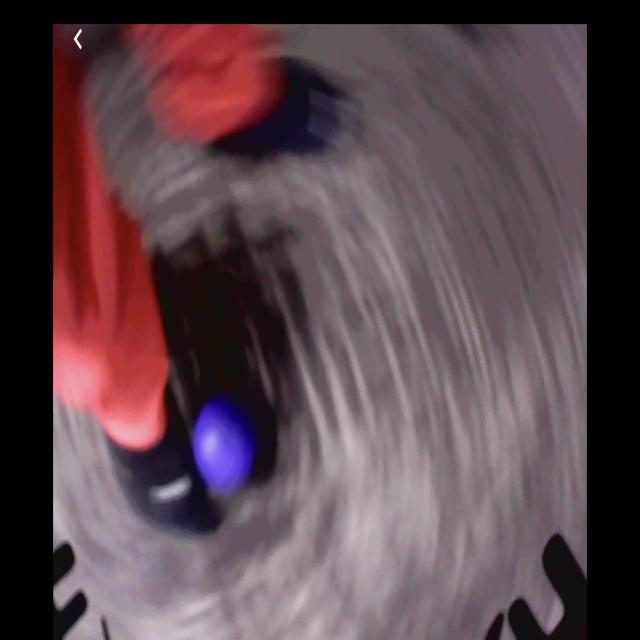ball: (194, 402, 255, 496)
